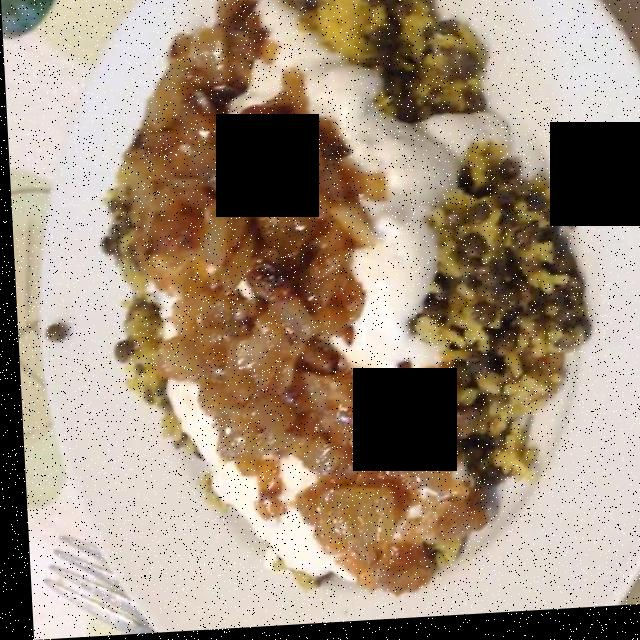greek-yaourt-yahourt-yogourt-ou-yoghourt: (165, 5, 510, 590)
lentils: (362, 0, 572, 494)
onion: (109, 5, 484, 609)
rice: (106, 0, 582, 494)
